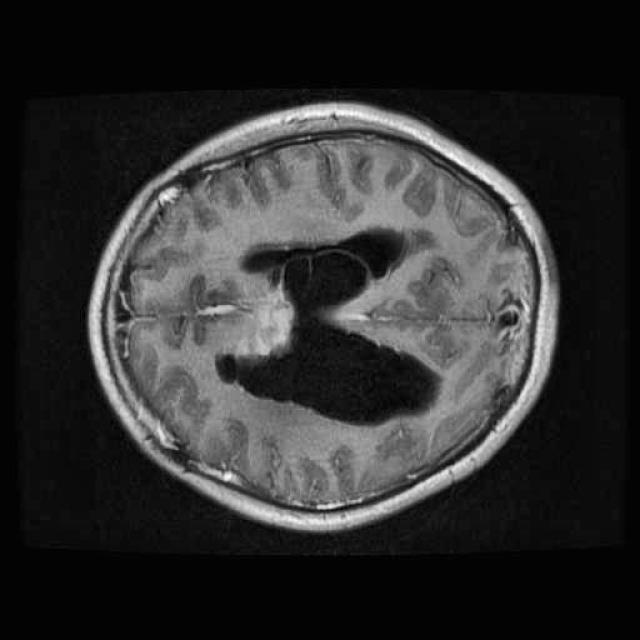Tumor: (226, 257, 320, 368)
